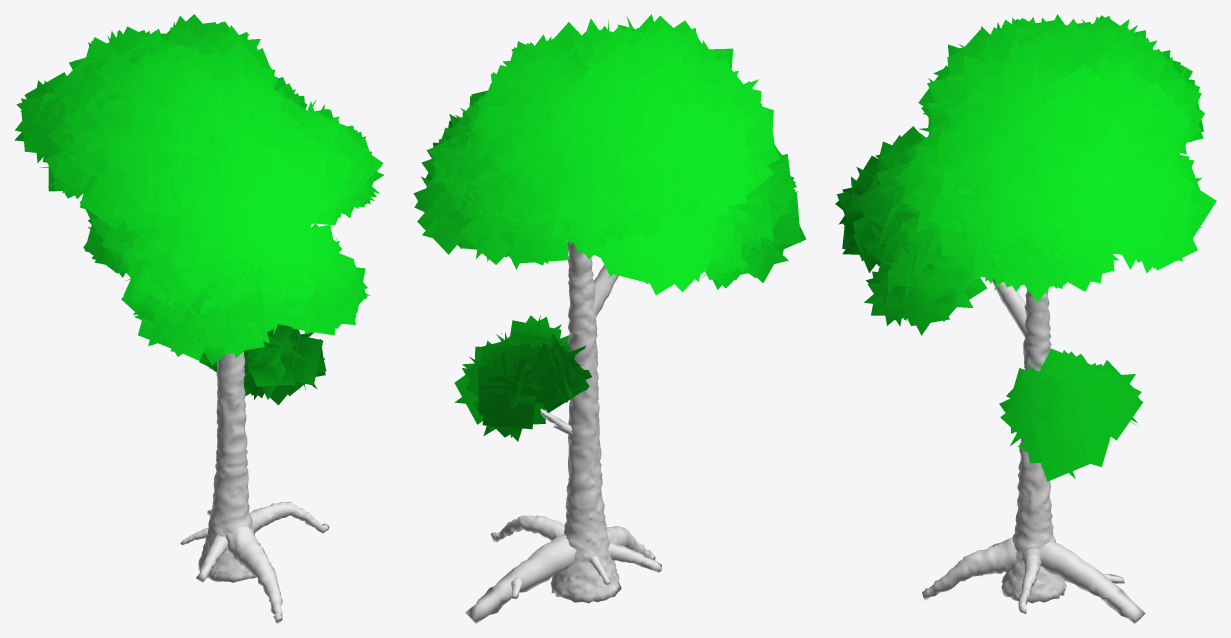
The model's file is temp arbre.fbx.
The picture shows the model from 3 angles, left to right: view 1: azimuth 30°, elevation 25°; view 2: azimuth 150°, elevation 25°; view 3: azimuth 270°, elevation 25°; orthographic projection. The views are drawn at different scales.
Visible parts, largest first — view 1: leaves, Cylinder, Cylinder.008, Cylinder.004, Cylinder.007; view 2: leaves, Cylinder, Cylinder.005, Cylinder.004, Cylinder.007, Cylinder.001, Cylinder.008; view 3: leaves, Cylinder, Cylinder.005, Cylinder.008, Cylinder.004, Cylinder.001.
Part boxes in pixels (bbox=[...]): leaves: bbox=[15, 14, 383, 405]; Cylinder: bbox=[198, 352, 255, 582]; Cylinder.008: bbox=[226, 526, 282, 623]; Cylinder.004: bbox=[249, 501, 329, 533]; Cylinder.007: bbox=[196, 535, 227, 582]; leaves: bbox=[413, 14, 806, 441]; Cylinder: bbox=[550, 241, 621, 603]; Cylinder.005: bbox=[465, 534, 576, 623]; Cylinder.004: bbox=[490, 515, 564, 541]; Cylinder.007: bbox=[607, 542, 662, 572]; Cylinder.001: bbox=[593, 265, 618, 315]; Cylinder.008: bbox=[606, 526, 655, 559]; leaves: bbox=[835, 14, 1216, 481]; Cylinder: bbox=[1001, 289, 1066, 603]; Cylinder.005: bbox=[1040, 541, 1145, 623]; Cylinder.008: bbox=[922, 537, 1016, 600]; Cylinder.004: bbox=[1018, 547, 1042, 613]; Cylinder.001: bbox=[992, 278, 1027, 337].
Bounding box in the file's own units: 25.87 × 44.56 × 27.74.
